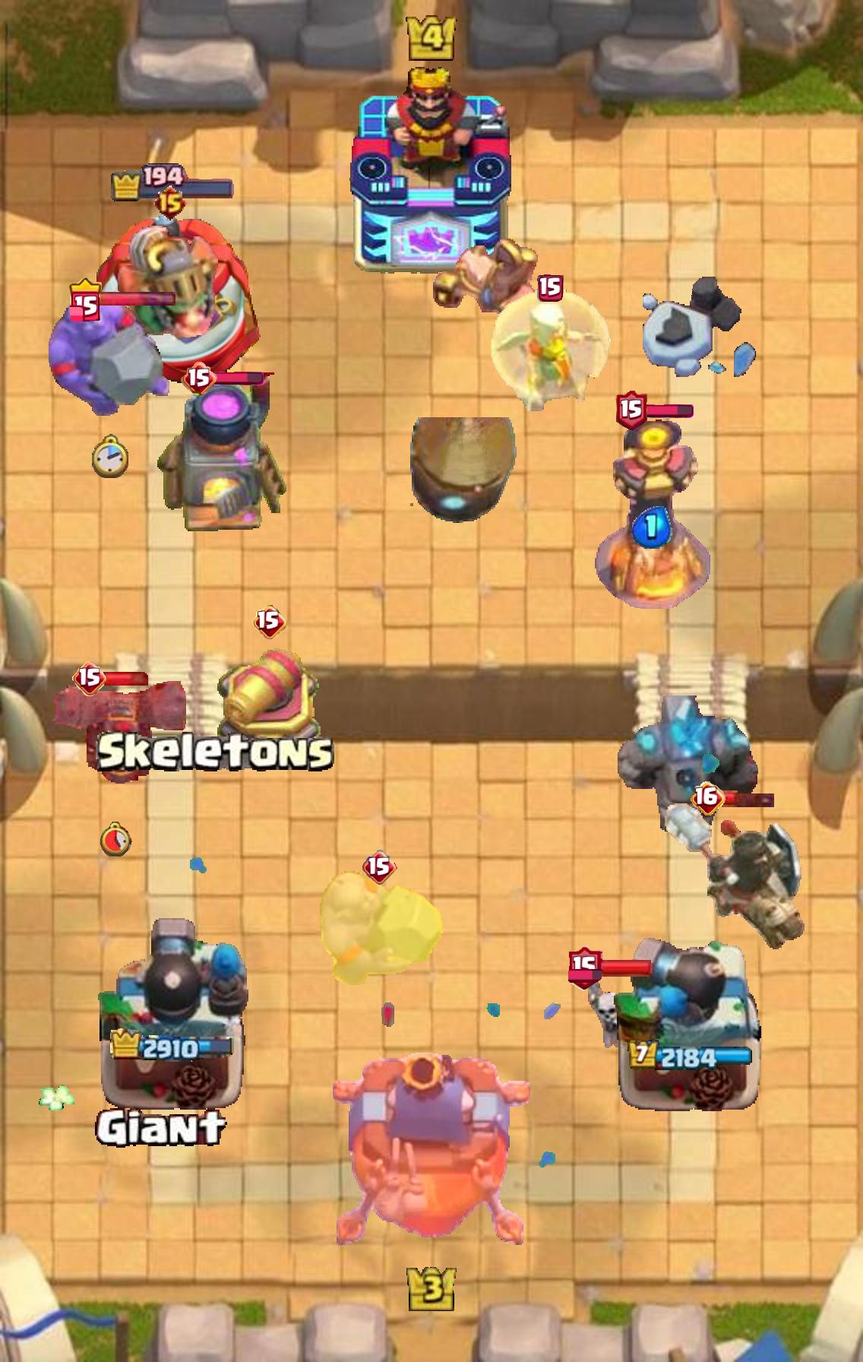bar: (97, 291, 176, 308), (722, 790, 776, 808), (599, 959, 653, 977), (103, 671, 152, 686), (643, 404, 694, 418), (213, 372, 264, 385)
bar-level: (568, 945, 602, 991), (69, 277, 101, 321), (615, 390, 647, 431), (153, 185, 188, 221), (252, 605, 287, 640), (72, 661, 107, 696), (362, 850, 397, 885), (181, 362, 217, 395), (691, 781, 725, 815), (537, 274, 563, 303)
